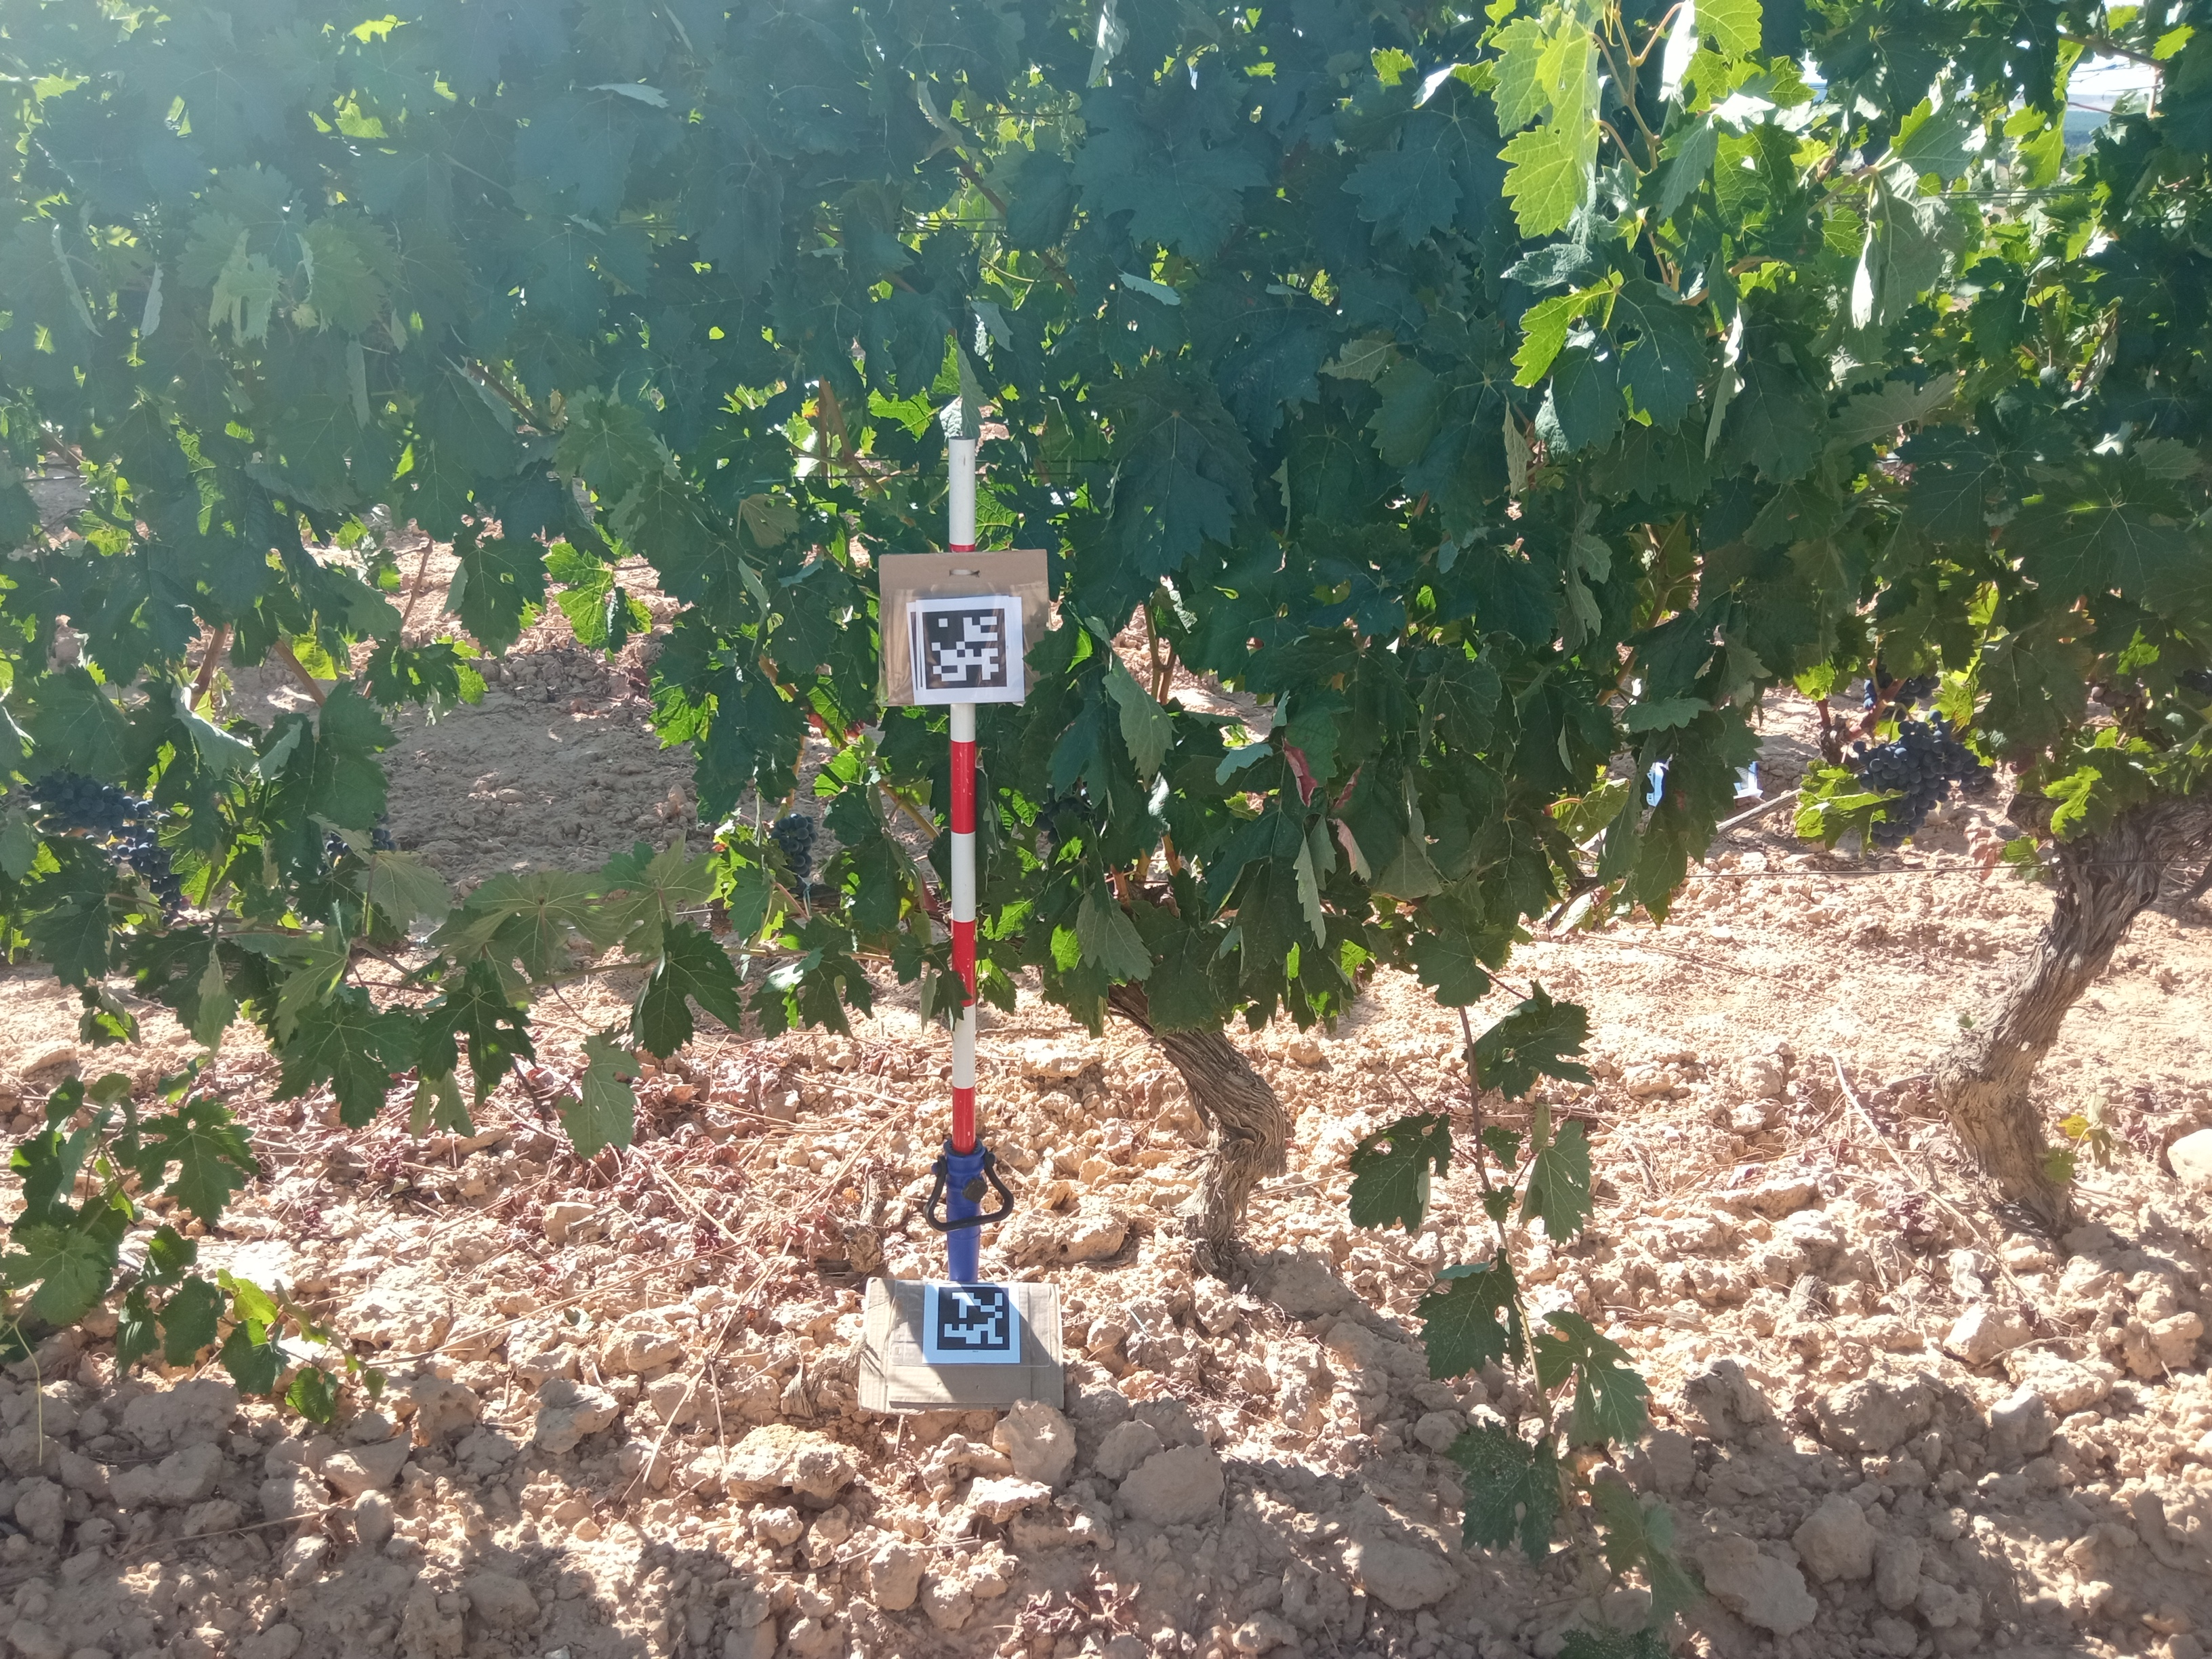grapes: (1850, 708, 2000, 849), (21, 763, 162, 842), (111, 835, 192, 927), (1860, 647, 1944, 723), (765, 810, 820, 901), (1033, 784, 1096, 845), (2090, 680, 2148, 720), (2172, 662, 2212, 699), (368, 810, 397, 857), (322, 826, 352, 857)
